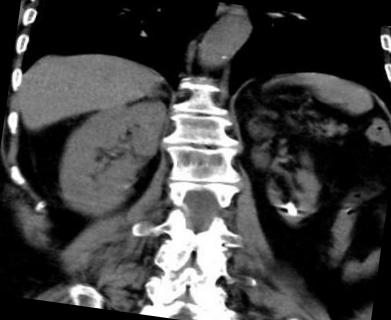Tas_Var: (278, 200, 300, 217)
